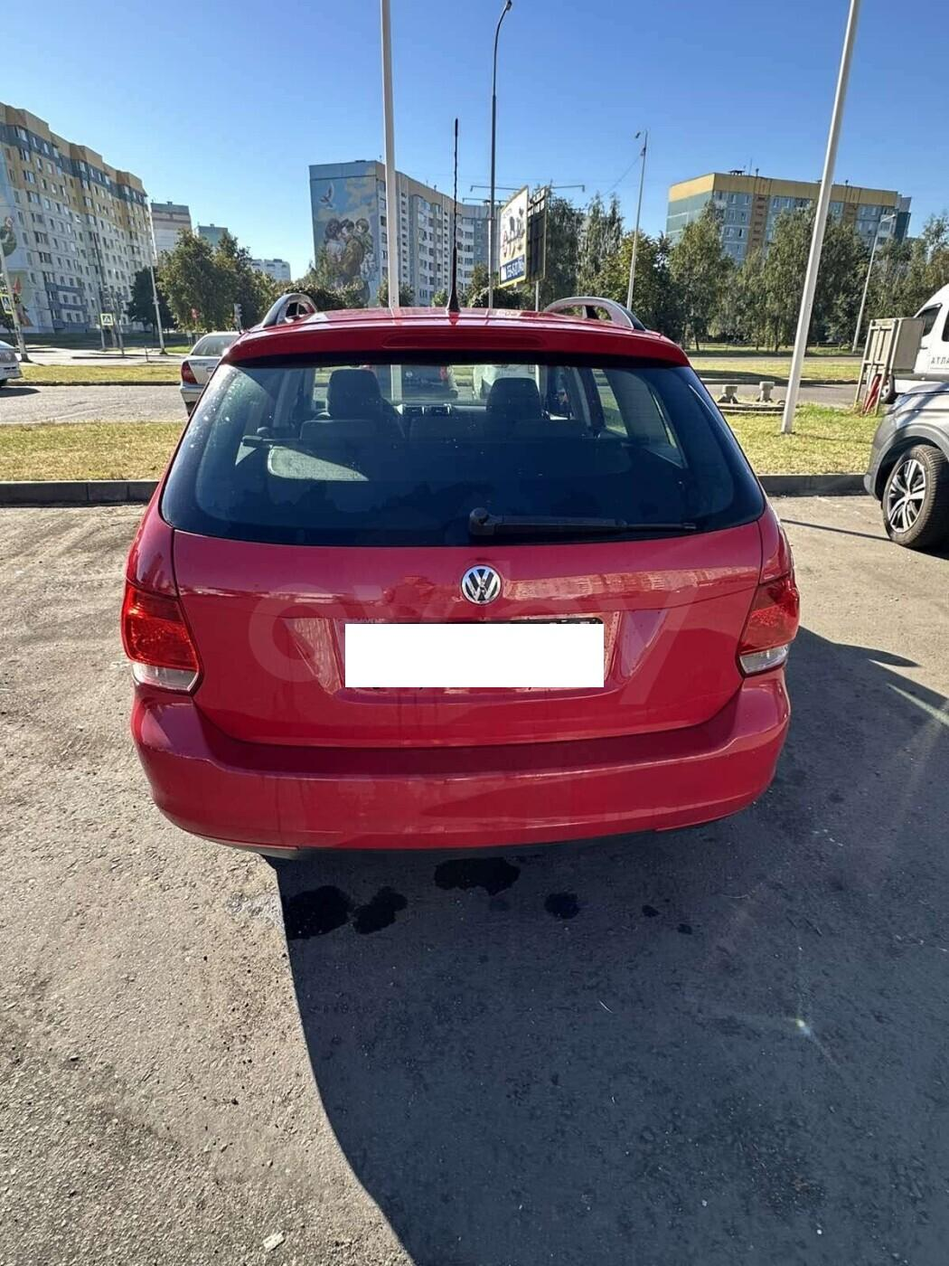Golf_2003-2009: (120, 290, 818, 897)
